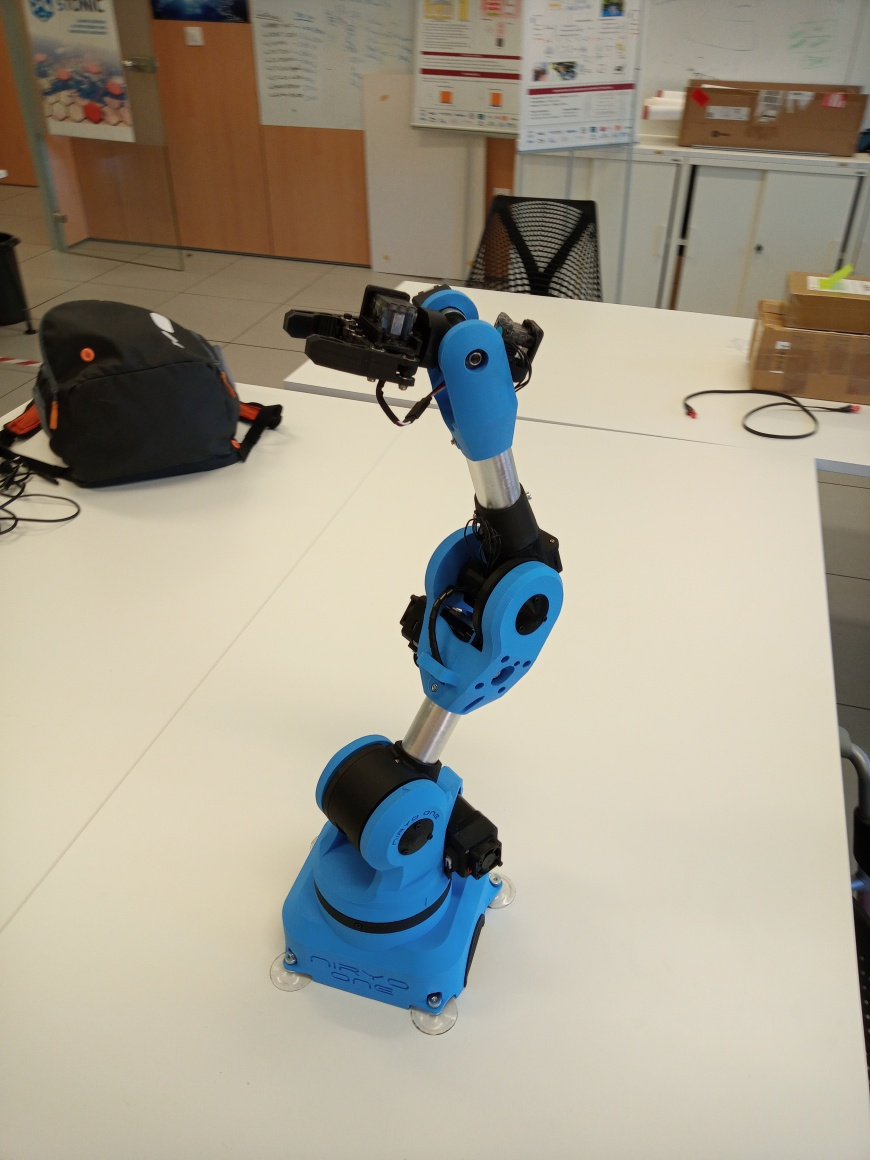robot: (267, 285, 573, 1041)
